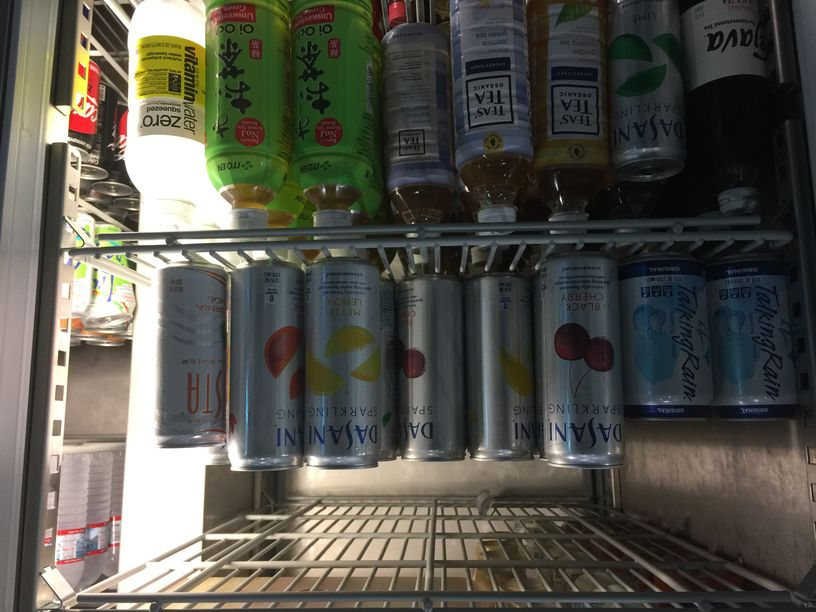blackcherry: (536, 253, 625, 468), (397, 274, 466, 462)
blood_orange: (232, 261, 303, 471)
competitor_01: (155, 261, 228, 449)
competitor_02: (623, 251, 713, 420), (712, 254, 802, 419)
lemon: (303, 259, 380, 469), (468, 271, 536, 462)
lime: (606, 1, 688, 180)
